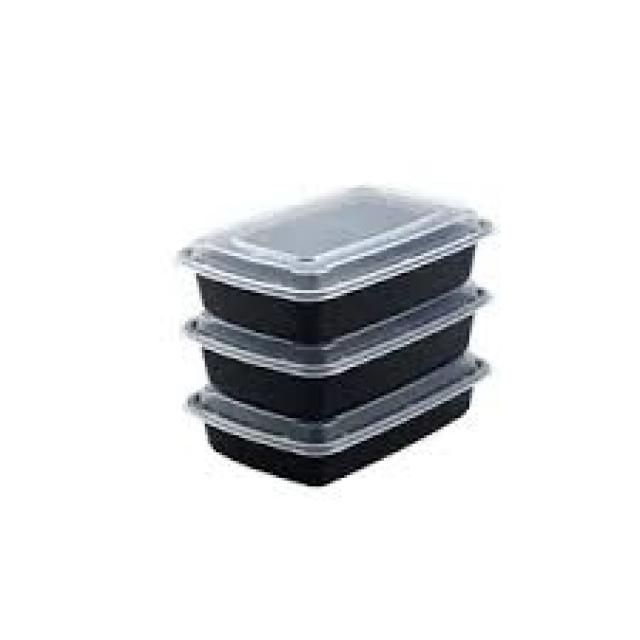disposable: (168, 182, 496, 338)
